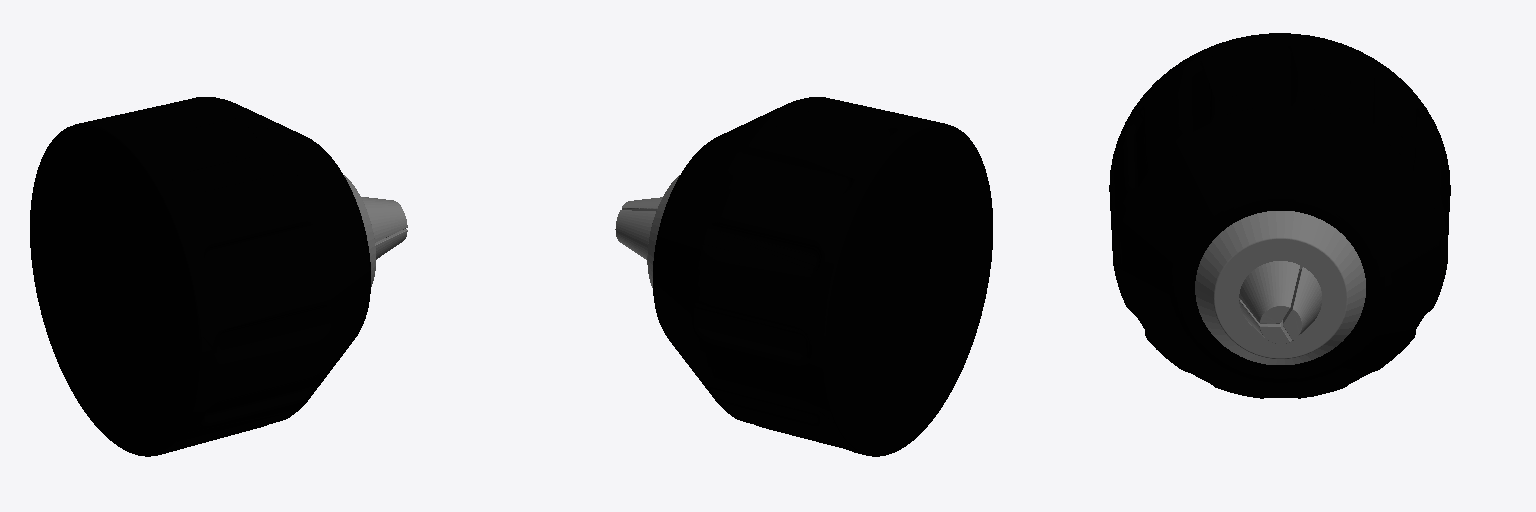
File: chuck.obj
3 views of the same model, side by side, from view 1: azimuth 30°, elevation 25°; view 2: azimuth 150°, elevation 25°; view 3: azimuth 270°, elevation 25° (orthographic).
Visible parts, largest first — view 1: chuck_obj6; view 2: chuck_obj6; view 3: chuck_obj6.
Boxes of the visible parts, x1,y1,x2,y2 form: chuck_obj6: [30, 97, 407, 456]; chuck_obj6: [615, 97, 992, 456]; chuck_obj6: [1109, 33, 1450, 398].
Size of the model in its own units: 0.0473 by 0.0493 by 0.0493.